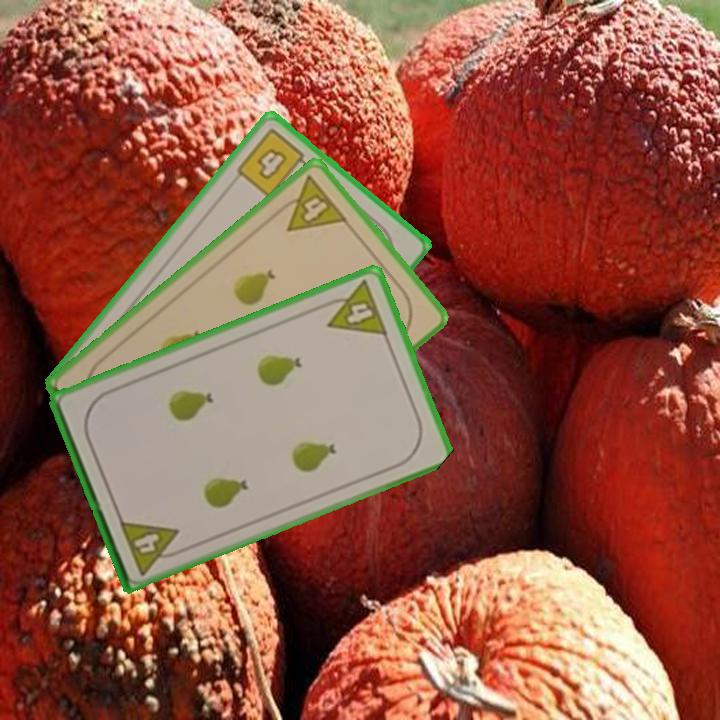4b: (232, 124, 315, 201)
4p: (270, 172, 351, 235), (316, 276, 391, 339), (115, 516, 188, 578)
